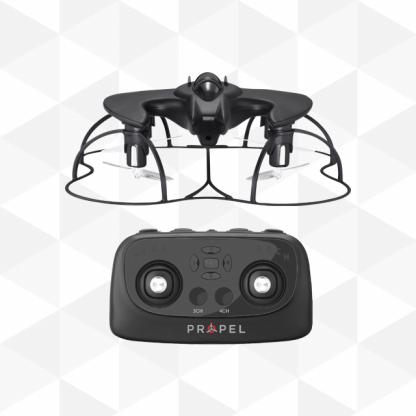drone: (63, 87, 352, 204)
